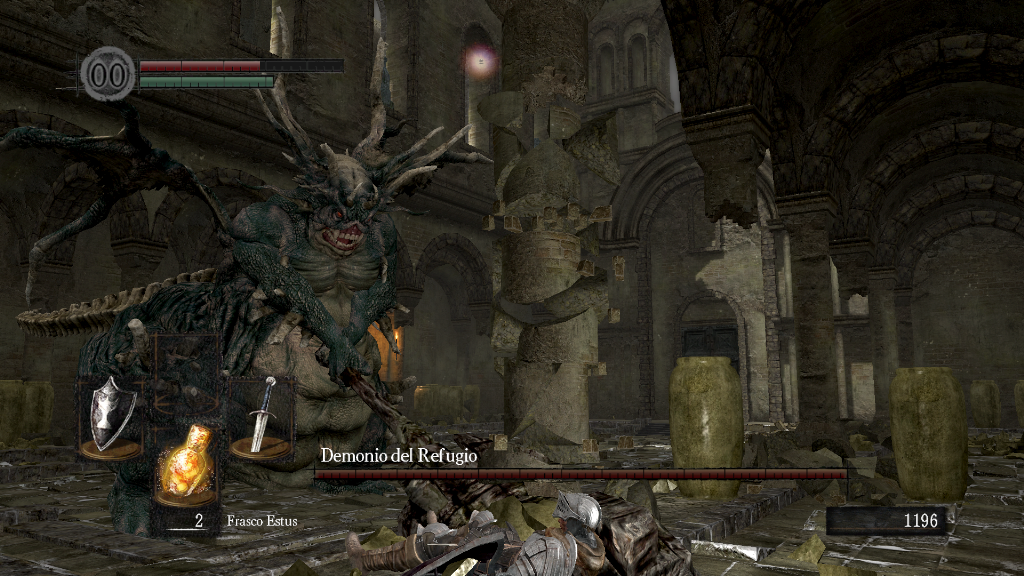asylumDemon: (12, 8, 497, 538)
bossHP: (314, 469, 847, 479)
health: (138, 58, 343, 71)
humanity: (80, 45, 136, 102)
player: (344, 489, 607, 576)
souls: (825, 506, 945, 536)
stamina: (138, 74, 274, 88)
